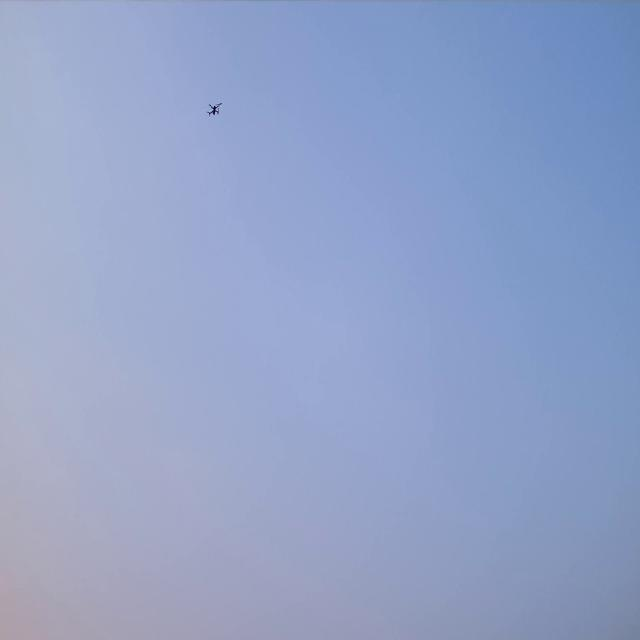UAV: (205, 101, 223, 119)
